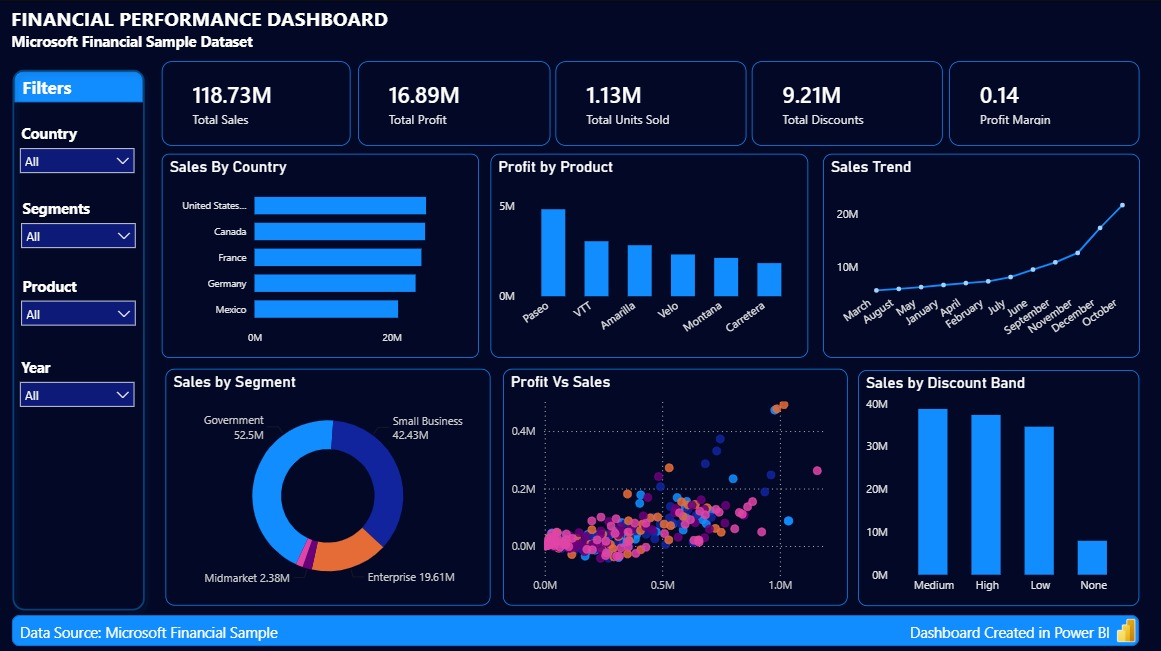

The dashboard page shown, as its layout file describes it:
{"tool":"powerbi","page":{"name":"Page 1","canvas":[1280,720],"ordinal":0},"visuals":[{"type":"textbox","box":[9.6,0,1243.2,64.5],"z":0},{"type":"shape","box":[6.9,67.2,163.3,612],"z":0,"group":"g7"},{"type":"cardVisual","fields":{"Data":["Financial.Total Sales"]},"box":[179.8,67.6,207.2,92.8],"z":0,"group":"g1"},{"type":"slicer","fields":{"Values":["Sample data.Country"]},"box":[13.7,152.1,145.7,45.7],"z":0,"group":"g2"},{"type":"barChart","title":"Sales By Country","fields":{"Y":["Sum(Financial. Sales)"],"Category":["Financial.Country"]},"box":[179.8,169.2,347.8,223.6],"z":0,"group":"g3"},{"type":"slicer","fields":{"Values":["Sample data.Segment"]},"box":[15.1,233.8,145.7,45.7],"z":0,"group":"g4"},{"type":"slicer","fields":{"Values":["Sample data.Product"]},"box":[15.1,318.5,145.7,45.7],"z":0,"group":"g5"},{"type":"slicer","fields":{"Values":["Sample data.Year"]},"box":[14.3,408.5,145.7,45.7],"z":0,"group":"g6"},{"type":"group","id":"g1","title":"Group 2","box":[179.8,67.6,1073.1,92.8],"z":1000,"group":"g7"},{"type":"cardVisual","fields":{"Data":["Financial.Total Profit"]},"box":[395.2,67.6,211.3,92.8],"z":1000,"group":"g1"},{"type":"group","id":"g2","title":"Group 1","box":[13.7,130.7,145.7,67.1],"z":1000},{"type":"textbox","box":[20.8,130.7,121.4,35.7],"z":1000,"group":"g2"},{"type":"clusteredColumnChart","title":"Profit by Product","fields":{"Category":["Financial.Product"],"Y":["Sum(Financial.Profit)"]},"box":[540.3,169.2,349.2,223.6],"z":1000,"group":"g3"},{"type":"textbox","box":[22.2,212.4,121.4,35.7],"z":1000,"group":"g4"},{"type":"textbox","box":[22.2,297.1,121.4,35.7],"z":1000,"group":"g5"},{"type":"textbox","box":[21.4,387.1,121.4,35.7],"z":1000,"group":"g6"},{"type":"cardVisual","fields":{"Data":["Financial.Total Units Sold"]},"box":[612,67.6,209.9,92.8],"z":2000,"group":"g1"},{"type":"group","id":"g3","title":"Group 3","box":[179.8,169.2,1073.1,223.6],"z":2000,"group":"g7"},{"type":"lineChart","title":"Sales Trend","fields":{"Y":["Sum(Financial. Sales)"],"Category":["Financial.Month Name"]},"box":[905.1,169.2,347.8,223.6],"z":2000,"group":"g3"},{"type":"group","id":"g4","title":"Group 1","box":[15.1,212.4,145.7,67.1],"z":2000},{"type":"cardVisual","fields":{"Data":["Financial.Total Discounts"]},"box":[827.5,67.6,209.9,92.8],"z":3000,"group":"g1"},{"type":"group","id":"g5","title":"Group 1","box":[15.1,297.1,145.7,67.1],"z":3000},{"type":"donutChart","title":"Sales by Segment","fields":{"Y":["Sum(Financial. Sales)"],"Category":["Financial.Segment"]},"box":[183.9,404.6,356.8,260.2],"z":3000,"group":"g7"},{"type":"cardVisual","fields":{"Data":["Financial.Profit Margin"]},"box":[1044.3,67.6,208.6,92.8],"z":4000,"group":"g1"},{"type":"group","id":"g6","title":"Group 1","box":[14.3,387.1,145.7,67.1],"z":4000},{"type":"scatterChart","title":"Profit Vs Sales","fields":{"Y":["Sum(Financial.Profit)"],"X":["Financial. Sales"],"Series":["Financial.Country"]},"box":[554.4,404.6,378.7,260.2],"z":4000,"group":"g7"},{"type":"shape","box":[17.8,78.2,141.3,34.3],"z":5000},{"type":"clusteredColumnChart","title":"Sales by Discount Band","fields":{"Y":["Sum(Financial. Sales)"],"Category":["Financial.Discount Band"]},"box":[944.1,405.9,308.7,258.9],"z":5000,"group":"g7"},{"type":"textbox","box":[22,78.2,97.4,38.4],"z":6000},{"type":"group","id":"g7","title":"Group 4","box":[6.9,67.2,1246,612],"z":7000},{"type":"shape","box":[15.1,675.1,1237.7,34.3],"z":8000},{"type":"textbox","box":[996.2,677.9,244.3,34.3],"z":9000},{"type":"image","box":[1225.4,673.8,26.1,37],"z":9001},{"type":"textbox","box":[19.2,677.9,367.8,34.3],"z":9002}]}

Visuals, with their boxes in screenshot pixels (x1, y1, x2, y2), scaled from the page's 1280x720 canvas onto the 1161x651 screenshot:
textbox: {"x1": 9, "y1": 0, "x2": 1136, "y2": 58}
shape: {"x1": 6, "y1": 61, "x2": 154, "y2": 614}
cardVisual - Financial.Total Sales: {"x1": 163, "y1": 61, "x2": 351, "y2": 145}
slicer - Sample data.Country: {"x1": 12, "y1": 138, "x2": 145, "y2": 179}
"Sales By Country" barChart: {"x1": 163, "y1": 153, "x2": 479, "y2": 355}
slicer - Sample data.Segment: {"x1": 14, "y1": 211, "x2": 146, "y2": 253}
slicer - Sample data.Product: {"x1": 14, "y1": 288, "x2": 146, "y2": 329}
slicer - Sample data.Year: {"x1": 13, "y1": 369, "x2": 145, "y2": 411}
"Group 2" group: {"x1": 163, "y1": 61, "x2": 1136, "y2": 145}
cardVisual - Financial.Total Profit: {"x1": 358, "y1": 61, "x2": 550, "y2": 145}
"Group 1" group: {"x1": 12, "y1": 118, "x2": 145, "y2": 179}
textbox: {"x1": 19, "y1": 118, "x2": 129, "y2": 150}
"Profit by Product" clusteredColumnChart: {"x1": 490, "y1": 153, "x2": 807, "y2": 355}
textbox: {"x1": 20, "y1": 192, "x2": 130, "y2": 224}
textbox: {"x1": 20, "y1": 269, "x2": 130, "y2": 301}
textbox: {"x1": 19, "y1": 350, "x2": 130, "y2": 382}
cardVisual - Financial.Total Units Sold: {"x1": 555, "y1": 61, "x2": 745, "y2": 145}
"Group 3" group: {"x1": 163, "y1": 153, "x2": 1136, "y2": 355}
"Sales Trend" lineChart: {"x1": 821, "y1": 153, "x2": 1136, "y2": 355}
"Group 1" group: {"x1": 14, "y1": 192, "x2": 146, "y2": 253}
cardVisual - Financial.Total Discounts: {"x1": 751, "y1": 61, "x2": 941, "y2": 145}
"Group 1" group: {"x1": 14, "y1": 269, "x2": 146, "y2": 329}
"Sales by Segment" donutChart: {"x1": 167, "y1": 366, "x2": 490, "y2": 601}
cardVisual - Financial.Profit Margin: {"x1": 947, "y1": 61, "x2": 1136, "y2": 145}
"Group 1" group: {"x1": 13, "y1": 350, "x2": 145, "y2": 411}
"Profit Vs Sales" scatterChart: {"x1": 503, "y1": 366, "x2": 846, "y2": 601}
shape: {"x1": 16, "y1": 71, "x2": 144, "y2": 102}
"Sales by Discount Band" clusteredColumnChart: {"x1": 856, "y1": 367, "x2": 1136, "y2": 601}
textbox: {"x1": 20, "y1": 71, "x2": 108, "y2": 105}
"Group 4" group: {"x1": 6, "y1": 61, "x2": 1136, "y2": 614}
shape: {"x1": 14, "y1": 610, "x2": 1136, "y2": 641}
textbox: {"x1": 904, "y1": 613, "x2": 1125, "y2": 644}
image: {"x1": 1111, "y1": 609, "x2": 1135, "y2": 643}
textbox: {"x1": 17, "y1": 613, "x2": 351, "y2": 644}
